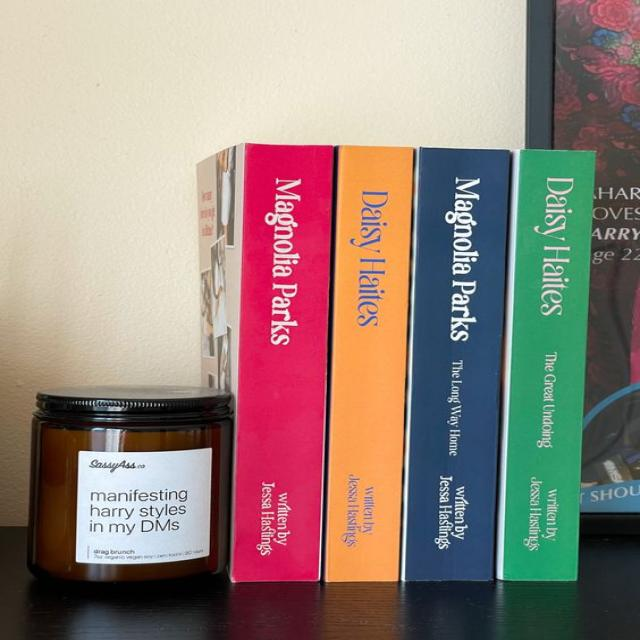book: (401, 148, 510, 581), (230, 144, 334, 582), (495, 151, 593, 580), (325, 146, 411, 581)
candle: (27, 386, 228, 582)
